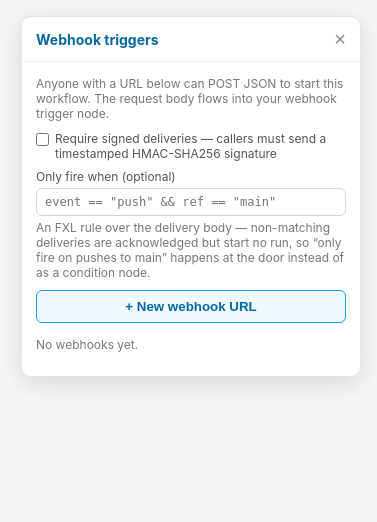
it: WebhookPanel gate expressions › sends the create-form filter along and shows it on the new row
The image size is (377, 522).
In the field labelled "Only fire when (optional)": (191, 202) [36,188,346,216], type "ref == \"main\""
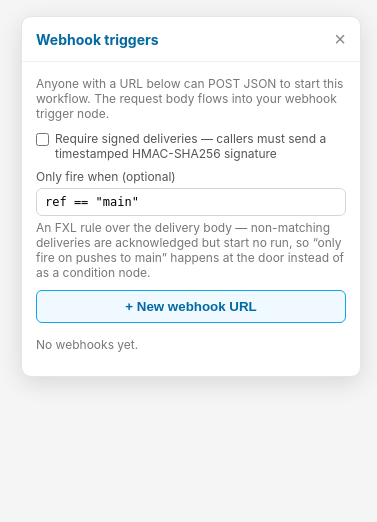
Click the button "+ New webhook URL": (191, 306) [36,290,346,323]
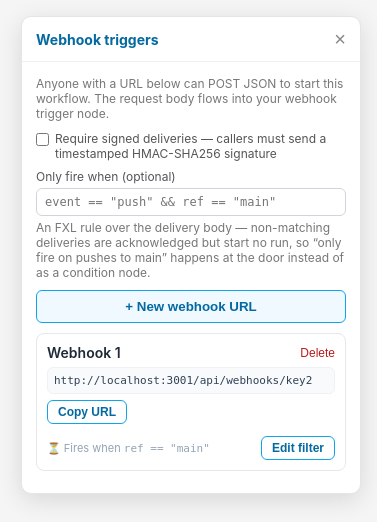
Expected: the text "ref == \"main\"" is shown, [124,442,210,455]
Expected: the field labelled "Only fire when (optional)" is empty, [36,188,346,216]
